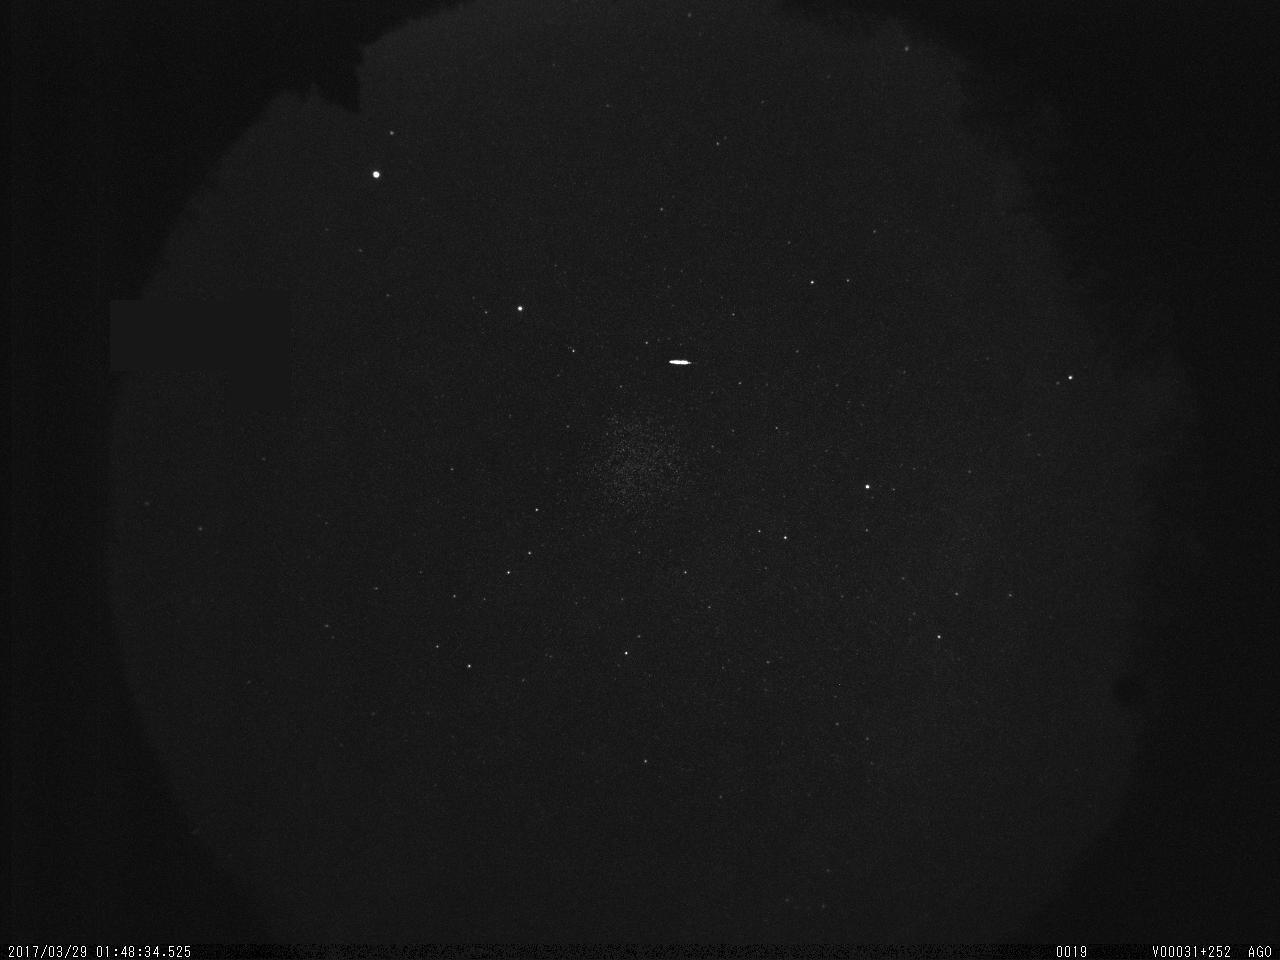meteor: (662, 343, 702, 388)
